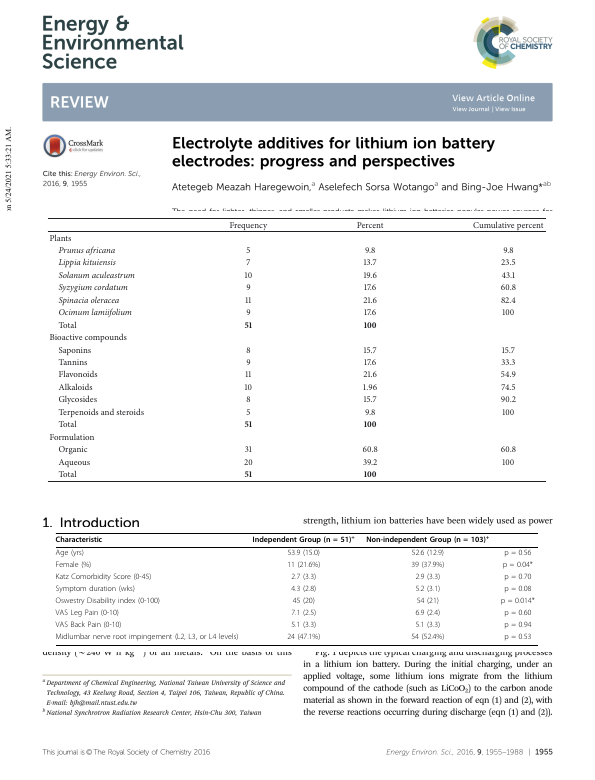borderless: (46, 216, 546, 481), (54, 532, 538, 645)
cell: (55, 633, 239, 642), (365, 534, 490, 545), (252, 534, 356, 545), (55, 597, 161, 607), (55, 573, 152, 583), (57, 407, 145, 418), (48, 332, 128, 343), (57, 270, 136, 281), (57, 307, 133, 318), (55, 585, 136, 595), (472, 220, 545, 231), (57, 283, 129, 293), (57, 295, 120, 306), (57, 245, 116, 256), (55, 621, 122, 630), (57, 258, 117, 268), (55, 609, 120, 618), (48, 432, 95, 443), (55, 536, 103, 545), (229, 220, 268, 231), (57, 370, 99, 380), (57, 395, 98, 405), (57, 382, 94, 393), (57, 457, 91, 468), (55, 561, 92, 571), (500, 597, 536, 607), (57, 444, 89, 455), (286, 549, 321, 559), (286, 561, 321, 571), (410, 561, 445, 571), (57, 345, 92, 355), (57, 357, 88, 368), (411, 549, 445, 559), (502, 561, 534, 571), (356, 220, 385, 231), (286, 633, 321, 642), (410, 633, 445, 642), (55, 549, 85, 559), (503, 549, 532, 559), (503, 573, 532, 583), (503, 585, 532, 595), (290, 573, 317, 583), (414, 573, 441, 583), (290, 585, 317, 595), (414, 585, 441, 595), (503, 609, 532, 618), (503, 621, 532, 630), (503, 633, 532, 642), (290, 609, 317, 618), (414, 609, 441, 618), (290, 621, 317, 630), (414, 621, 441, 630), (292, 597, 316, 607), (416, 597, 440, 607), (48, 233, 72, 243), (57, 320, 78, 331), (57, 469, 78, 480), (57, 420, 78, 430), (500, 295, 517, 306), (500, 382, 517, 393), (362, 444, 379, 455), (500, 444, 517, 455), (362, 270, 378, 281), (362, 295, 378, 306), (500, 357, 516, 368), (362, 382, 378, 393), (362, 457, 378, 468), (500, 258, 517, 268), (500, 283, 517, 293), (500, 370, 517, 380), (500, 395, 517, 405), (501, 270, 516, 281), (362, 370, 378, 380), (363, 307, 377, 318), (501, 307, 515, 318), (363, 357, 377, 368), (501, 407, 515, 418), (501, 457, 515, 468), (363, 258, 378, 268), (363, 345, 378, 355), (501, 345, 516, 355), (363, 395, 378, 405), (502, 245, 515, 256), (363, 283, 377, 293), (363, 469, 378, 478), (364, 245, 376, 256), (364, 407, 376, 418), (243, 457, 254, 468), (363, 320, 378, 328), (363, 420, 378, 428), (244, 270, 253, 281), (244, 382, 253, 393), (244, 444, 253, 455), (244, 295, 252, 306), (244, 469, 253, 478), (244, 370, 252, 380), (245, 307, 252, 318), (245, 357, 252, 368), (244, 320, 253, 328), (244, 420, 253, 428), (245, 283, 252, 293), (245, 345, 252, 355), (245, 395, 252, 405), (245, 245, 251, 256), (245, 407, 251, 418), (245, 258, 251, 268)
